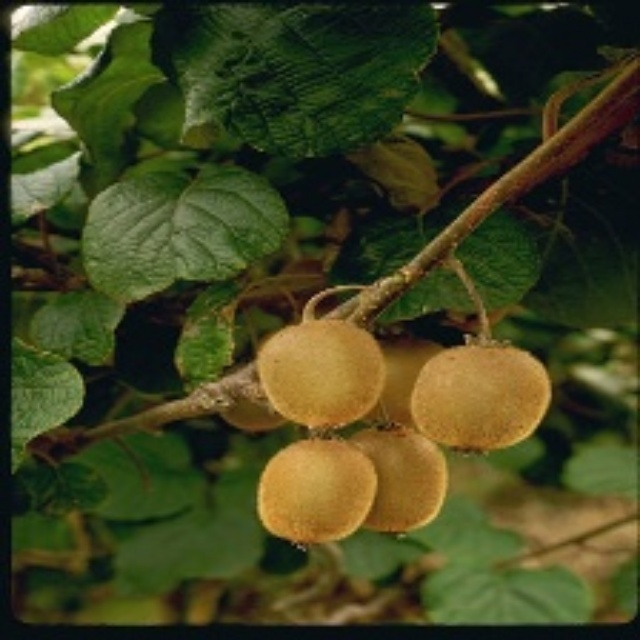kiwi: (380, 337, 566, 459), (248, 420, 376, 555), (250, 322, 410, 425), (350, 418, 453, 542)
